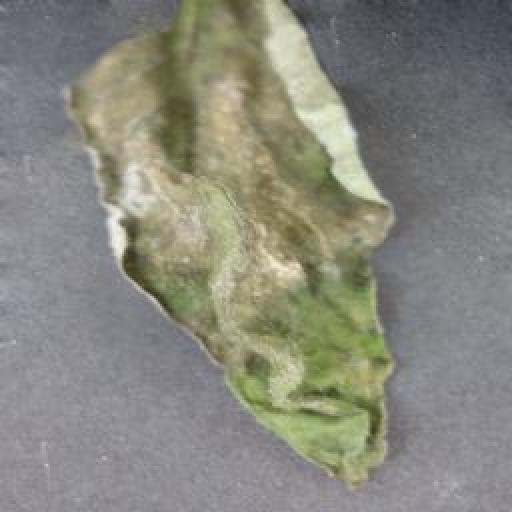disease_tomato: (54, 0, 406, 496)
